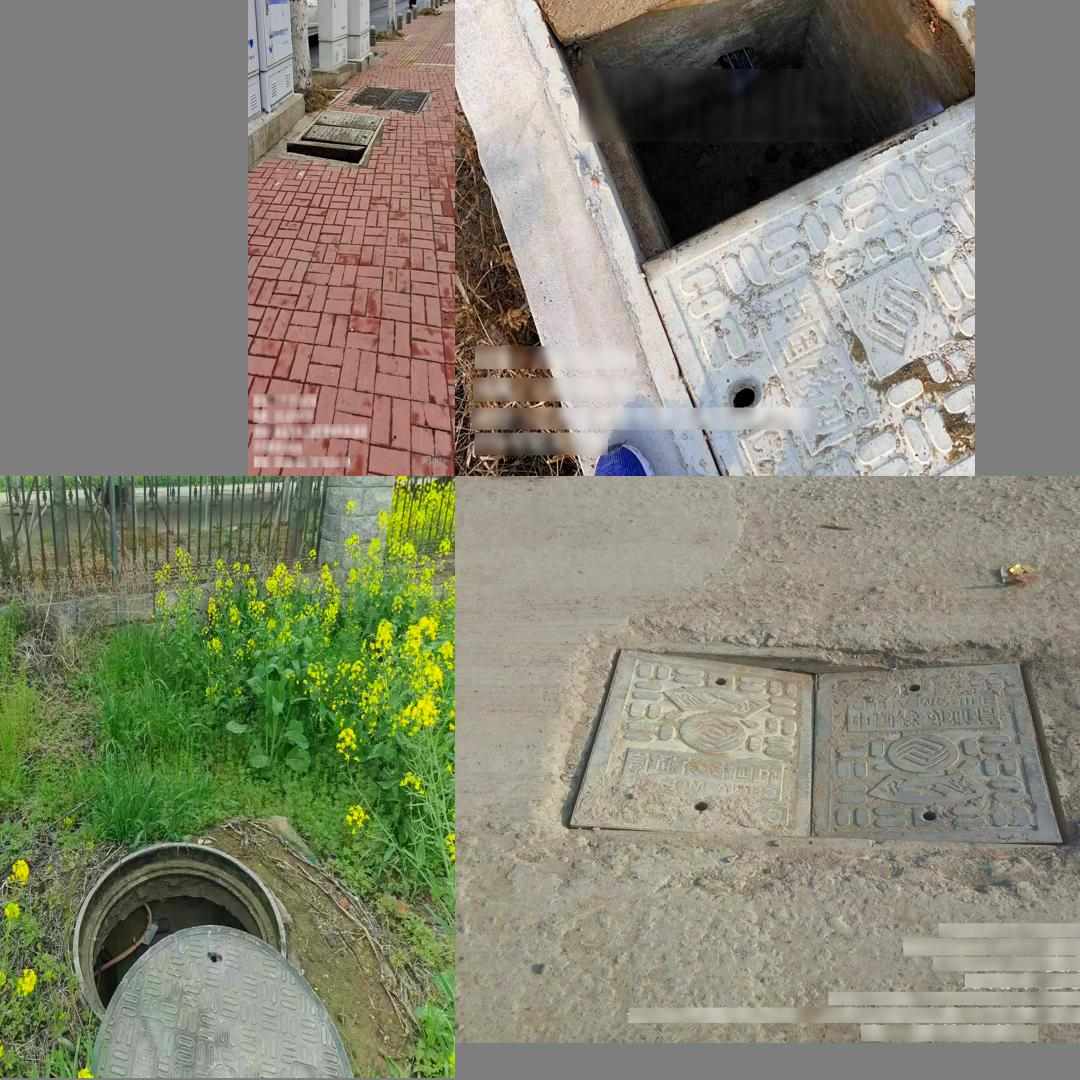good: (348, 81, 431, 116)
uncovered: (461, 0, 975, 476), (548, 638, 1069, 847), (57, 832, 350, 1076), (285, 109, 385, 170)
